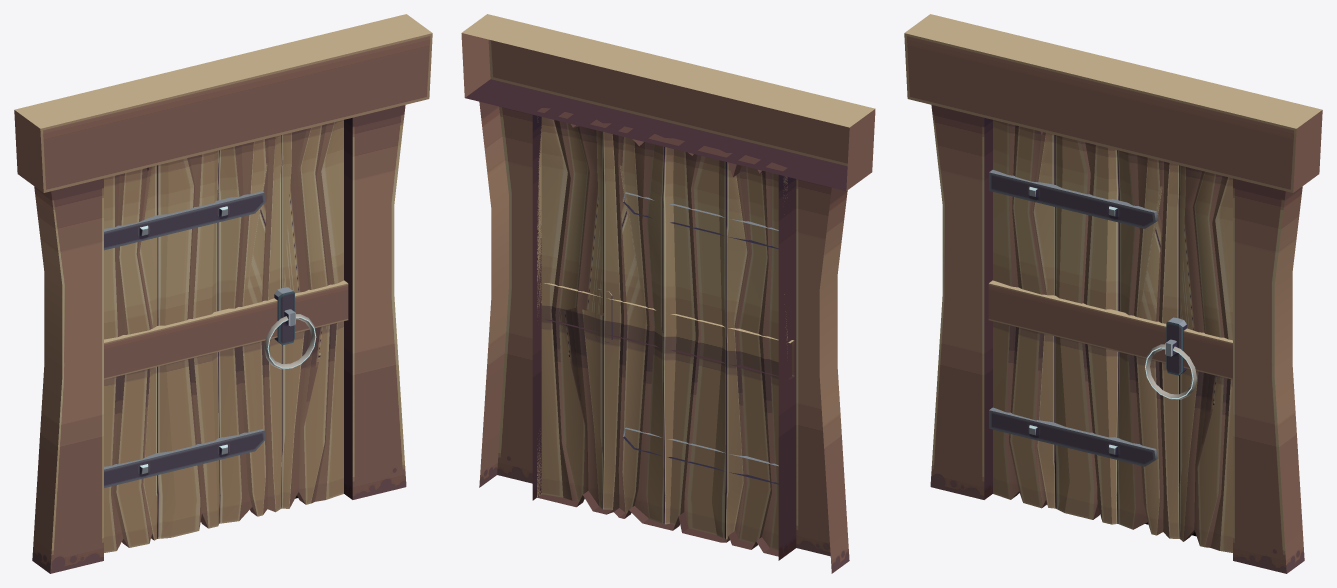
The model's file is Door.fbx.
The picture shows the model from 3 angles, left to right: view 1: azimuth 30°, elevation 25°; view 2: azimuth 150°, elevation 25°; view 3: azimuth 330°, elevation 25°; orthographic projection.
Parts seen in each view (by area): view 1: Door1_model; view 2: Door1_model; view 3: Door1_model.
Part boxes in pixels (box(x1,y1,x2,y2)): Door1_model: box(14, 14, 432, 573); Door1_model: box(461, 14, 875, 573); Door1_model: box(904, 14, 1322, 573).
Size of the model in its own units: 1.62 by 1.8 by 0.1871.
